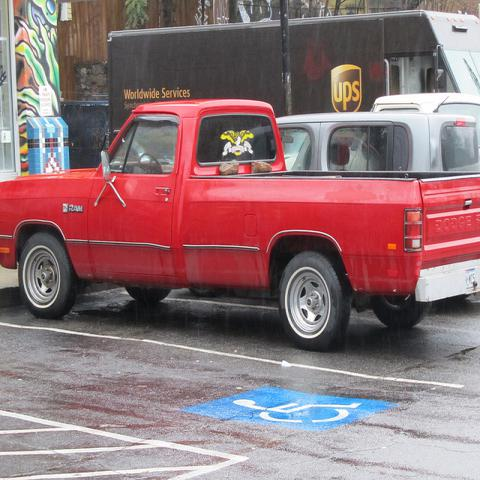car: (276, 108, 479, 175), (372, 93, 478, 114)
truck: (0, 99, 479, 354), (106, 7, 479, 146), (274, 111, 479, 174)
